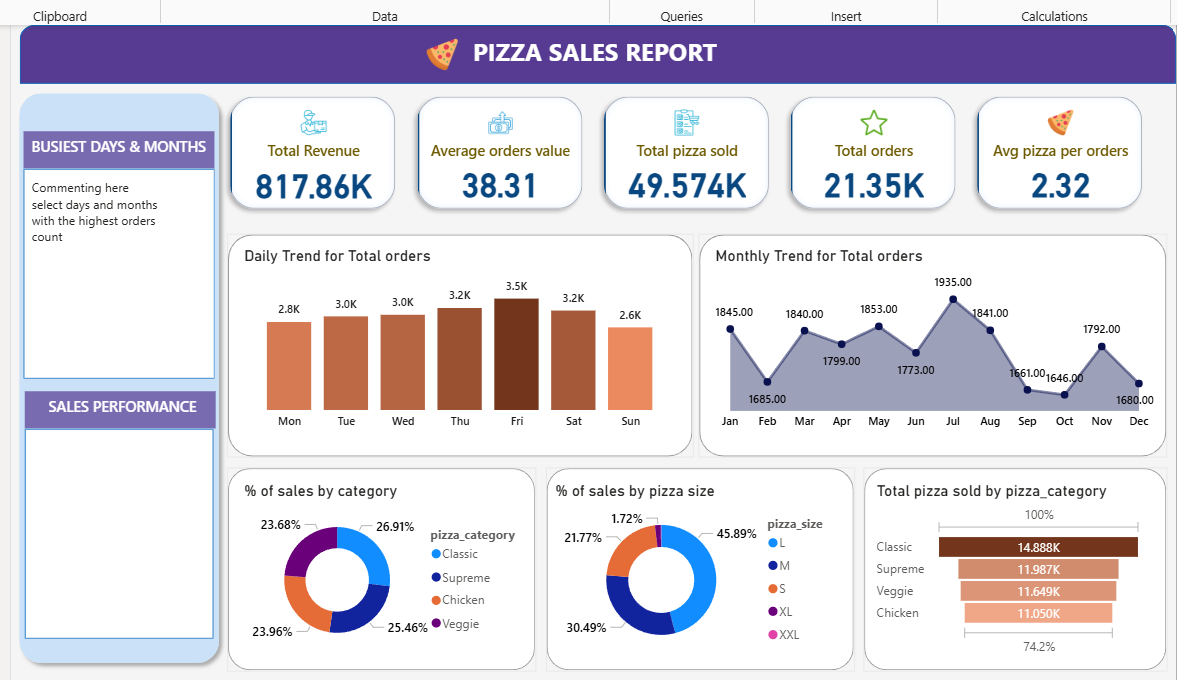

What the dashboard file says about the page in this screenshot:
{"tool":"powerbi","page":{"name":"Home","canvas":[1280,720],"ordinal":0},"visuals":[{"type":"cardVisual","fields":{"Data":["pizza_sales.Total Revenue","pizza_sales.Average orders value","pizza_sales.Total pizza sold","pizza_sales.Total orders","pizza_sales.Avg pizza per orders"]},"box":[250.7,66,1008.8,149.2],"z":0},{"type":"shape","box":[0,0,1270.5,74.6],"z":1000},{"type":"textbox","box":[454.2,5.6,373.6,52.8],"z":2000},{"type":"image","box":[316.7,9.7,312.5,45.8],"z":3000},{"type":"shape","box":[259.2,228.7,490.4,245.8],"z":4000},{"type":"clusteredColumnChart","title":"Daily Trend for Total orders","fields":{"Category":["pizza_sales.Day Order_Date"],"Y":["pizza_sales.Total orders"]},"box":[269,243.3,465.9,209.1],"z":5000},{"type":"shape","box":[754.7,229.2,514.6,245.6],"z":6000},{"type":"areaChart","title":"Monthly Trend for Total orders","fields":{"Y":["pizza_sales.Total orders"],"Category":["pizza_sales.Month_Name"]},"box":[768.4,242.9,491.3,209.9],"z":7000},{"type":"shape","box":[259.2,485.5,330.2,223.8],"z":8000},{"type":"shape","box":[599.2,485.5,326.5,223.8],"z":9000},{"type":"shape","box":[935.9,485.8,333.4,223.7],"z":10000},{"type":"donutChart","title":"% of sales by category","fields":{"Category":["pizza_sales.pizza_category"],"Y":["pizza_sales.Total Revenue"]},"box":[269,501.4,309.4,195.7],"z":11000},{"type":"donutChart","title":"% of sales by pizza size","fields":{"Category":["pizza_sales.pizza_size"],"Y":["pizza_sales.Total Revenue"]},"box":[611.4,501.4,303.3,195.7],"z":12000},{"type":"shape","box":[0,74.6,259.2,634.7],"z":13000},{"type":"funnel","title":"Total pizza sold by Pizza Category","fields":{"Y":["pizza_sales.Total pizza sold"],"Category":["pizza_sales.pizza_category"]},"box":[945.5,500.9,301.9,196.2],"z":14000},{"type":"textbox","box":[13.5,116.2,227.4,41.6],"z":15000},{"type":"shape","box":[13.5,157.7,227.4,231.1],"z":16000},{"type":"textbox","box":[18.3,170,214,207.9],"z":17000},{"type":"textbox","box":[14.7,402.3,226.2,40.4],"z":18000},{"type":"shape","box":[14.7,442.7,226.2,231.1],"z":19000},{"type":"textbox","box":[18.3,452.4,214,209.1],"z":20000},{"type":"pageNavigator","box":[0,0,400,50],"z":21000},{"type":"slicer","fields":{"Values":["pizza_sales.pizza_category"]},"box":[836.4,0,167.5,64.8],"z":22000},{"type":"slicer","fields":{"Values":["pizza_sales.order_date"]},"box":[1012.5,0,234.8,74.6],"z":23000}]}

Visuals, with their boxes on the page's 1280x720 design canvas (x1, y1, x2, y2). These are canvas units, not pixel positions in the 1177x680 screenshot, which may show the page scaled, cropped or inside an application window:
cardVisual - pizza_sales.Total Revenue x pizza_sales.Average orders value: select_region(251, 66, 1260, 215)
shape: select_region(0, 0, 1270, 75)
textbox: select_region(454, 6, 828, 58)
image: select_region(317, 10, 629, 56)
shape: select_region(259, 229, 750, 474)
"Daily Trend for Total orders" clusteredColumnChart: select_region(269, 243, 735, 452)
shape: select_region(755, 229, 1269, 475)
"Monthly Trend for Total orders" areaChart: select_region(768, 243, 1260, 453)
shape: select_region(259, 486, 589, 709)
shape: select_region(599, 486, 926, 709)
shape: select_region(936, 486, 1269, 710)
"% of sales by category" donutChart: select_region(269, 501, 578, 697)
"% of sales by pizza size" donutChart: select_region(611, 501, 915, 697)
shape: select_region(0, 75, 259, 709)
"Total pizza sold by Pizza Category" funnel: select_region(946, 501, 1247, 697)
textbox: select_region(14, 116, 241, 158)
shape: select_region(14, 158, 241, 389)
textbox: select_region(18, 170, 232, 378)
textbox: select_region(15, 402, 241, 443)
shape: select_region(15, 443, 241, 674)
textbox: select_region(18, 452, 232, 662)
pageNavigator: select_region(0, 0, 400, 50)
slicer - pizza_sales.pizza_category: select_region(836, 0, 1004, 65)
slicer - pizza_sales.order_date: select_region(1012, 0, 1247, 75)
